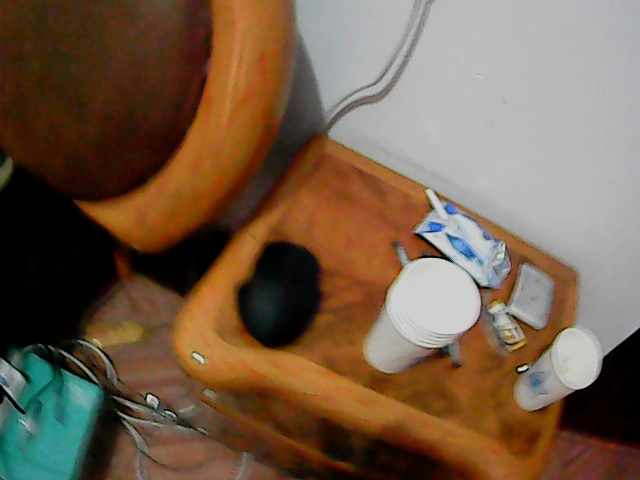cup: (364, 253, 483, 383)
mouse: (232, 234, 323, 347)
